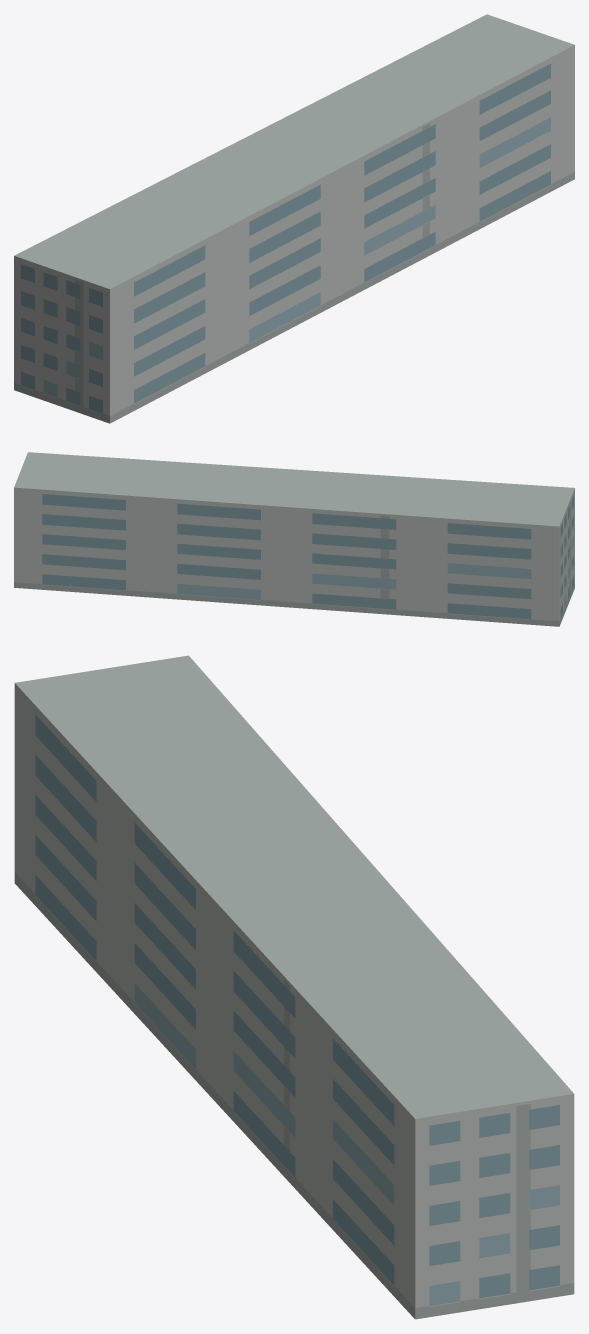
The model's file is residential-2b08ffa5-260f-420b-ae05-6e1ff3a65ca5.glb.
3 renders of one model, top to bottom at view 1: azimuth 30°, elevation 25°; view 2: azimuth 150°, elevation 25°; view 3: azimuth 270°, elevation 25°, orthographic. The views are drawn at different scales.
Parts seen in each view (by area): view 1: residential-2b08ffa5-260f-420b-ae05-6e1ff3a65ca5.tmp; view 2: residential-2b08ffa5-260f-420b-ae05-6e1ff3a65ca5.tmp; view 3: residential-2b08ffa5-260f-420b-ae05-6e1ff3a65ca5.tmp.
Boxes of the visible parts, left/top/right/bottom form: residential-2b08ffa5-260f-420b-ae05-6e1ff3a65ca5.tmp: left=14, top=14, right=574, bottom=423; residential-2b08ffa5-260f-420b-ae05-6e1ff3a65ca5.tmp: left=14, top=452, right=574, bottom=626; residential-2b08ffa5-260f-420b-ae05-6e1ff3a65ca5.tmp: left=14, top=655, right=574, bottom=1319.
Size of the model in its own units: 75.62 by 15.25 by 38.58.
